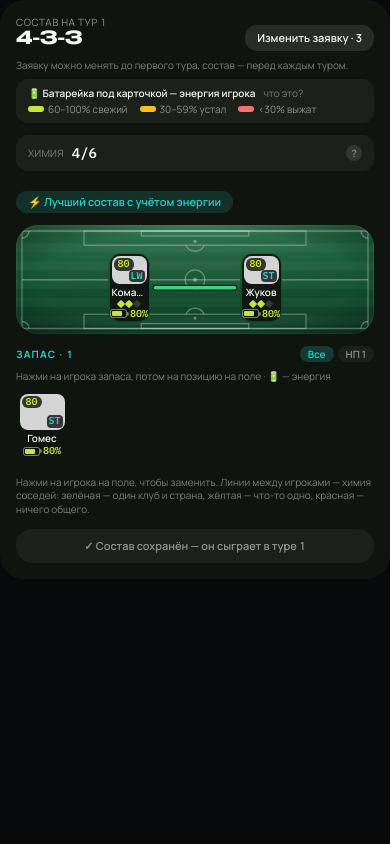
Test: CareerSquad › lets the squad be rebuilt before round 1
The image size is (390, 844).
Click the button "Изменить заявку · 3".
click(310, 38)  # box left=245, top=24, right=374, bottom=50
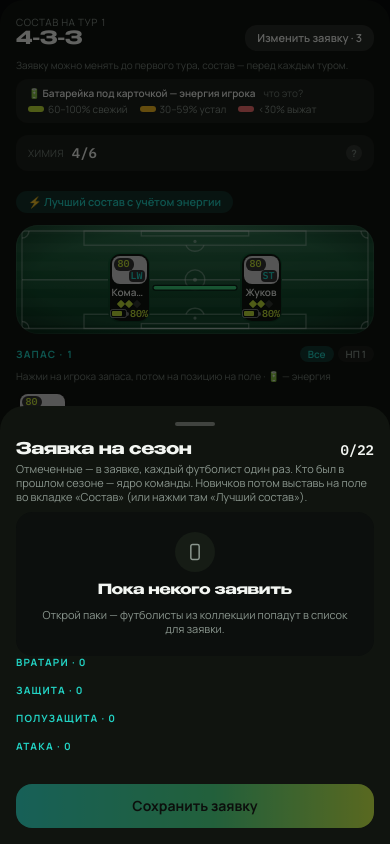
Check: the text "Заявка на сезон" is shown, box left=16, top=438, right=192, bottom=462
